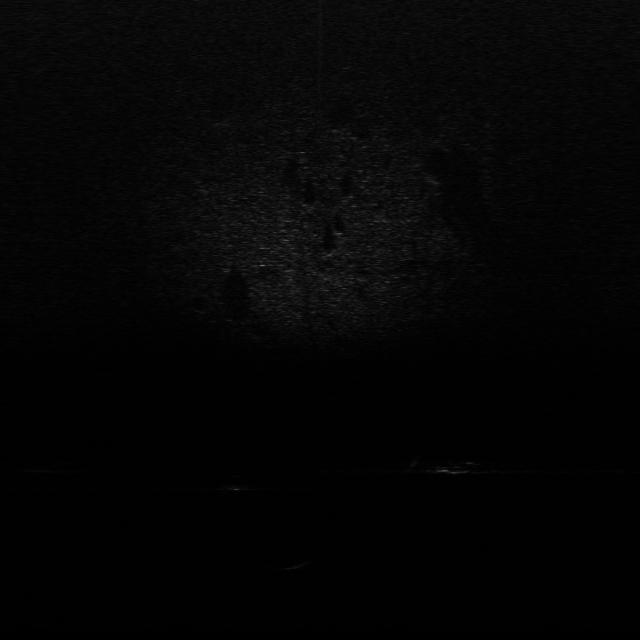ball: (220, 471, 254, 495)
circle cage: (269, 551, 322, 584)
human body: (403, 455, 502, 482)
